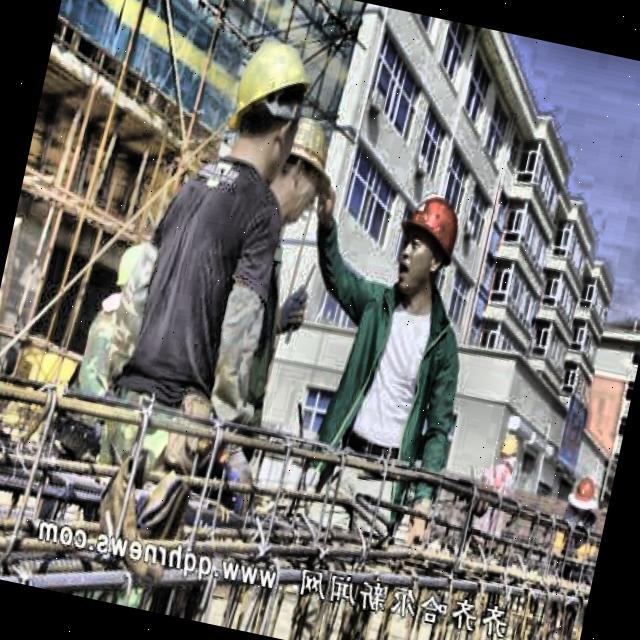helmet: (206, 34, 320, 200), (385, 192, 466, 312), (103, 232, 165, 314), (566, 470, 604, 521), (492, 426, 524, 471)
